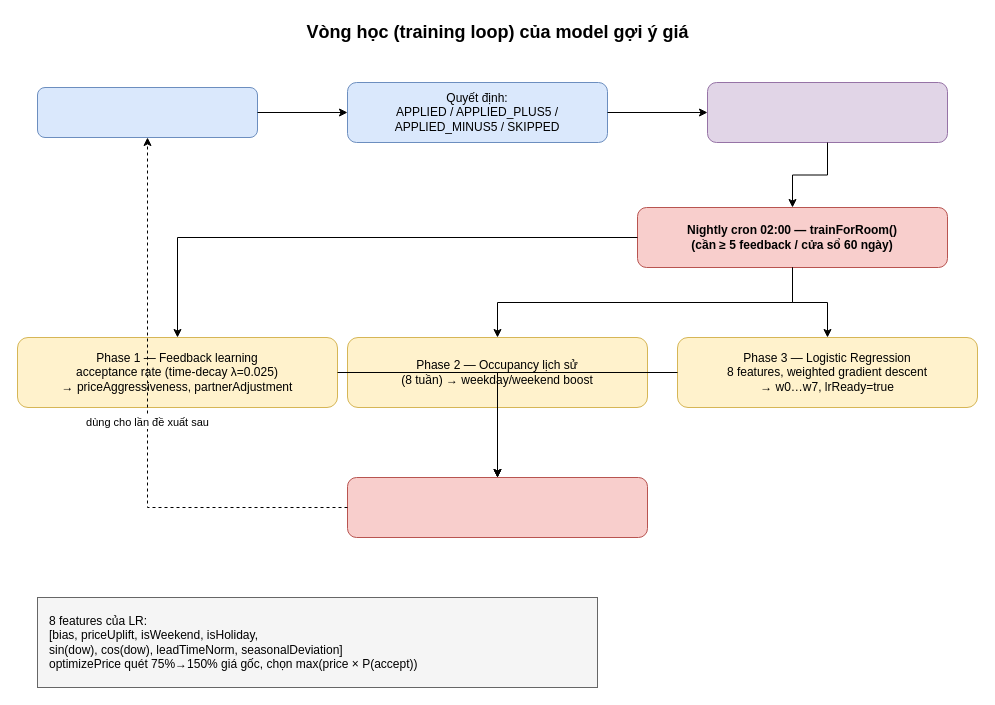
Image size: 995x705. Some labels were removed from this diagram. The centre of each missing label's shape, as x and y in pixels:
Partner xem đề xuất giá: the point at 147,112
PriceFeedback lưu DB (POST /price-feedback): the point at 827,112
PricingModel cập nhật (round++, lastTrainedAt): the point at 497,507
